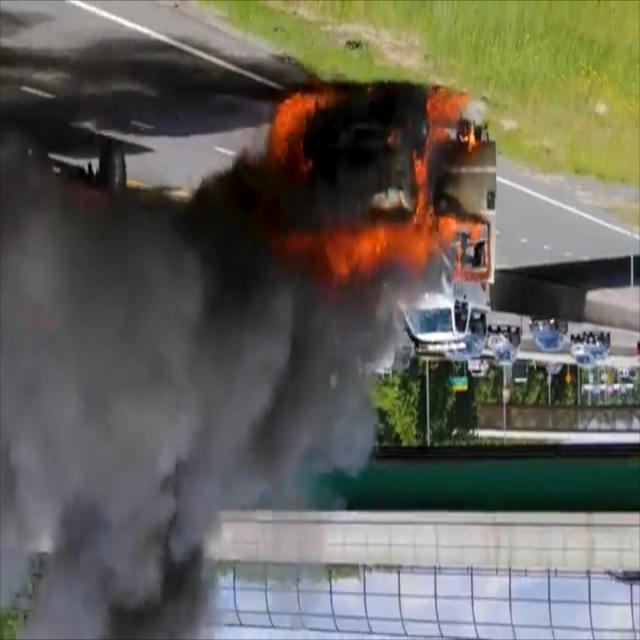fire: (248, 88, 491, 304)
